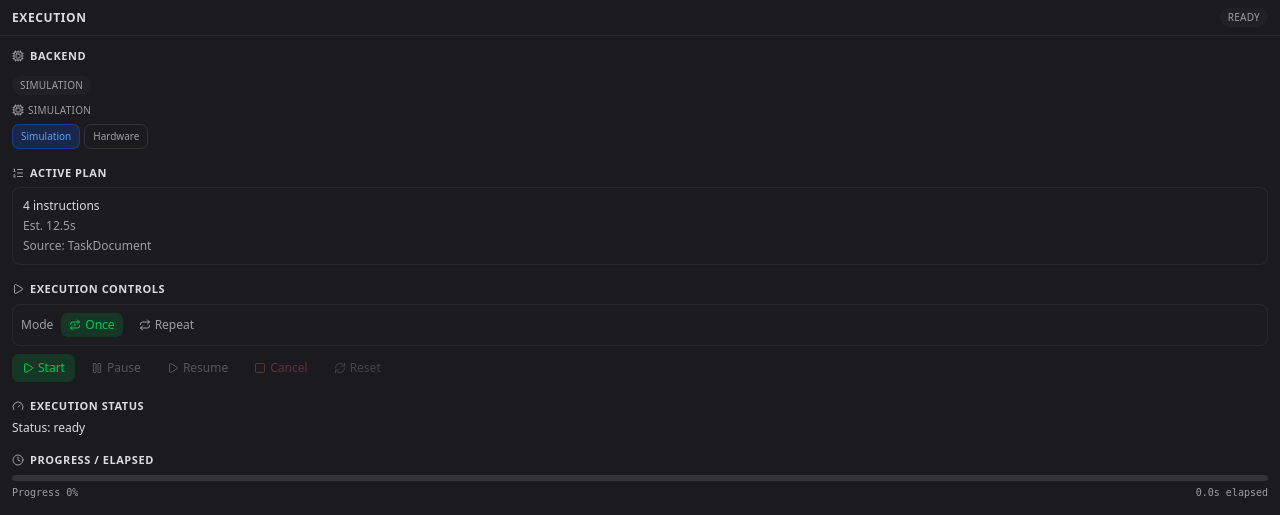
Test: Execution mode selector (EW1/EW2) › renders Once/Repeat and a bounded count input, hidden after a run starts
Expected: the button "Once" is shown, x1=61 y1=312 x2=123 y2=336
Click the button "Repeat" at (166, 324), box x1=131 y1=312 x2=202 y2=336
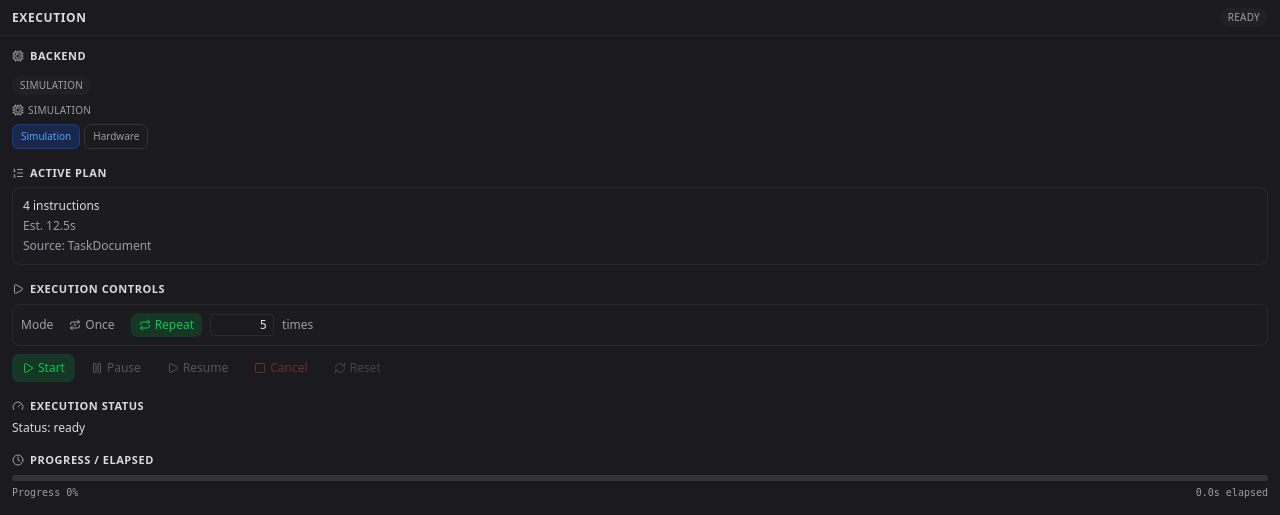
Expected: the number field named "Repeat count" is shown, x1=210 y1=314 x2=274 y2=336
